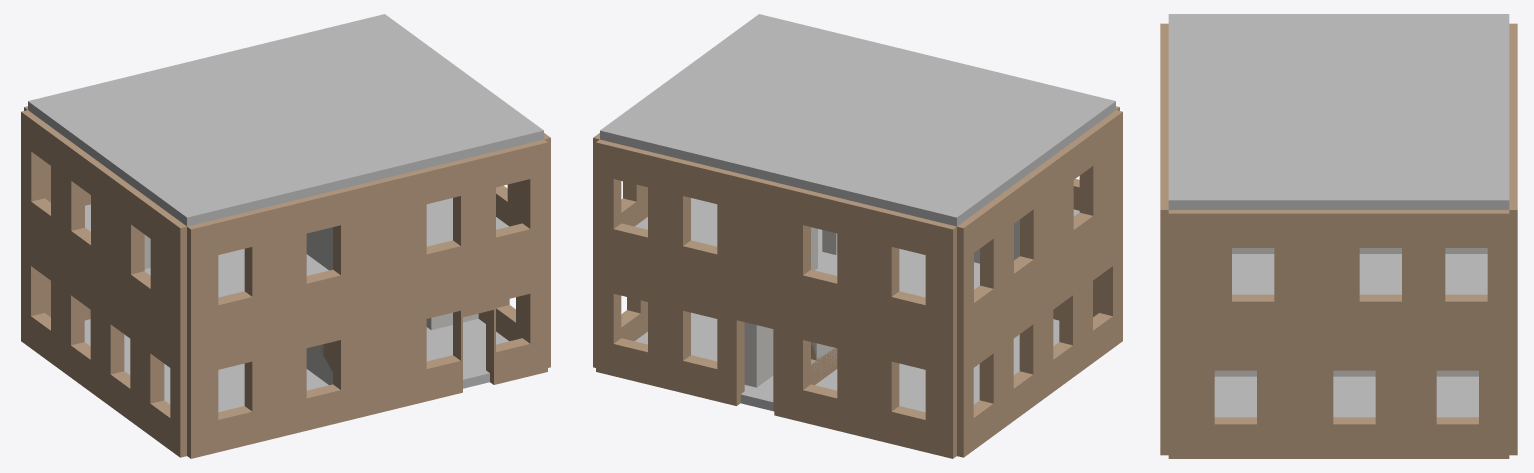
File: tavern_georgian_s42.glb
The picture shows the model from 3 angles, left to right: view 1: azimuth 30°, elevation 25°; view 2: azimuth 150°, elevation 25°; view 3: azimuth 270°, elevation 25°; orthographic projection. The views are drawn at different scales.
Visible parts, largest first — view 1: ceiling_slab, floor_1_wall_11, floor_0_wall_1, floor_0_wall_2, floor_1_wall_16, floor_0_wall_15, floor_1_wall_12, floor_1_wall_2, floor_1_wall_14, floor_0_wall_12, floor_0_slab, floor_1_slab (+4 smaller); view 2: ceiling_slab, floor_1_wall_3, floor_0_wall_3, floor_0_wall_2, floor_1_wall_9, floor_0_wall_10, floor_1_wall_2, floor_1_wall_12, floor_1_wall_6, floor_0_slab, floor_1_slab, floor_0_wall_7 (+5 smaller); view 3: ceiling_slab, floor_0_wall_8, floor_1_wall_15, floor_1_wall_7, floor_0_wall_14, floor_0_slab, floor_1_slab, floor_1_wall_9, floor_1_wall_16, floor_0_wall_10, floor_0_wall_15, floor_1_wall_3 (+3 smaller).
Boxes of the visible parts, x1,y1,x2,y2 form: ceiling_slab: (28, 14, 543, 226); floor_1_wall_11: (187, 183, 367, 343); floor_0_wall_1: (187, 301, 367, 458); floor_0_wall_2: (21, 226, 186, 457); floor_1_wall_16: (405, 139, 547, 290); floor_0_wall_15: (409, 257, 547, 405); floor_1_wall_12: (101, 168, 186, 342); floor_1_wall_2: (21, 110, 107, 284); floor_1_wall_14: (364, 173, 408, 300); floor_0_wall_12: (368, 291, 408, 415); floor_0_slab: (84, 318, 508, 412); floor_1_slab: (85, 198, 508, 297); ceiling_slab: (600, 14, 1115, 226); floor_1_wall_3: (776, 183, 956, 343); floor_0_wall_3: (776, 301, 956, 458); floor_0_wall_2: (957, 226, 1122, 457); floor_1_wall_9: (596, 139, 738, 290); floor_0_wall_10: (596, 257, 734, 405); floor_1_wall_2: (957, 168, 1043, 342); floor_1_wall_12: (1037, 110, 1122, 283); floor_1_wall_6: (735, 173, 779, 300); floor_0_slab: (635, 312, 1059, 412); floor_1_slab: (635, 198, 1079, 297); floor_0_wall_7: (735, 291, 775, 415); ceiling_slab: (1168, 14, 1509, 209); floor_0_wall_8: (1302, 336, 1509, 458); floor_1_wall_15: (1168, 210, 1337, 336); floor_1_wall_7: (1338, 210, 1509, 336); floor_0_wall_14: (1168, 336, 1302, 458); floor_0_slab: (1214, 376, 1478, 417); floor_1_slab: (1232, 254, 1487, 294); floor_1_wall_9: (1509, 137, 1517, 332); floor_1_wall_16: (1160, 137, 1168, 332); floor_0_wall_10: (1509, 332, 1517, 455); floor_0_wall_15: (1160, 332, 1168, 455); floor_1_wall_3: (1509, 23, 1517, 115).
Bounding box in the file's own units: 10.92 × 8.01 × 8.55.
